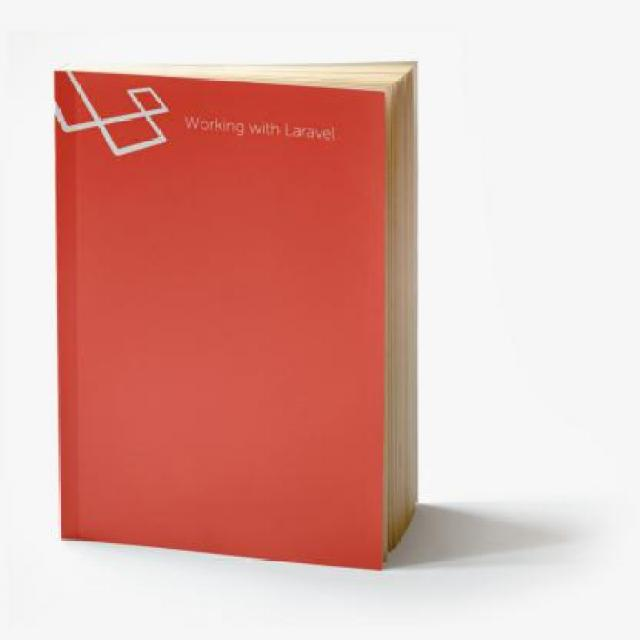book: (36, 35, 458, 579)
